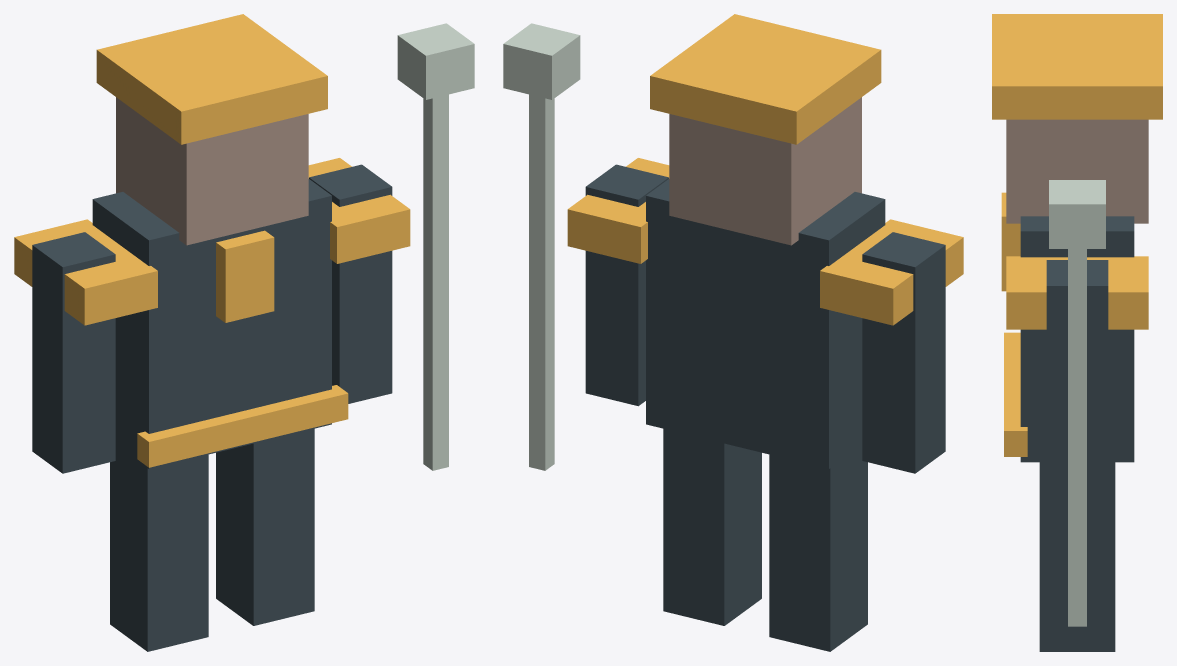
The model's file is 20_draven_emberkin_courier_near_relay.glb.
The picture shows the model from 3 angles, left to right: view 1: azimuth 30°, elevation 25°; view 2: azimuth 150°, elevation 25°; view 3: azimuth 270°, elevation 25°; orthographic projection.
Parts seen in each view (by area): view 1: Draven Emberkin, Courier near Relay; view 2: Draven Emberkin, Courier near Relay; view 3: Draven Emberkin, Courier near Relay.
Boxes of the visible parts, box(x1,y1,x2,y2) form: Draven Emberkin, Courier near Relay: box(14, 14, 474, 651); Draven Emberkin, Courier near Relay: box(503, 14, 963, 651); Draven Emberkin, Courier near Relay: box(992, 14, 1162, 651).
Bounding box in the file's own units: 1.1 × 1.41 × 0.3897.
